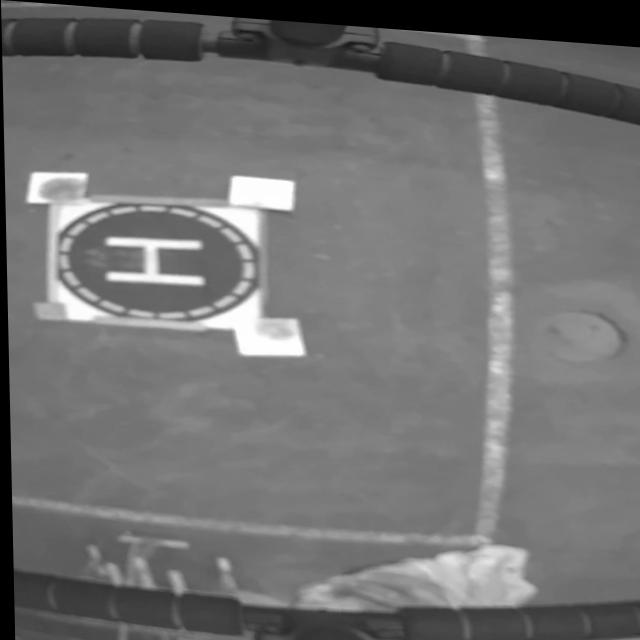Helipad: (105, 235, 201, 283)
